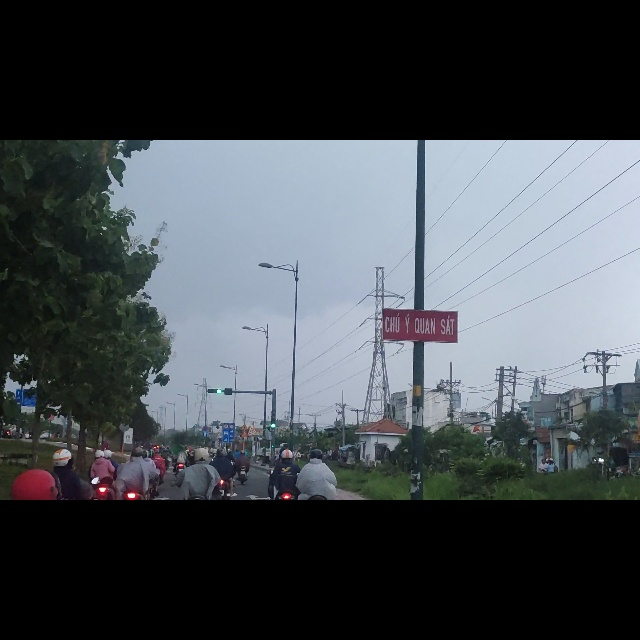bien_nguy_hiem: (223, 513, 235, 537), (241, 504, 249, 516), (241, 517, 248, 529), (202, 518, 208, 528)
